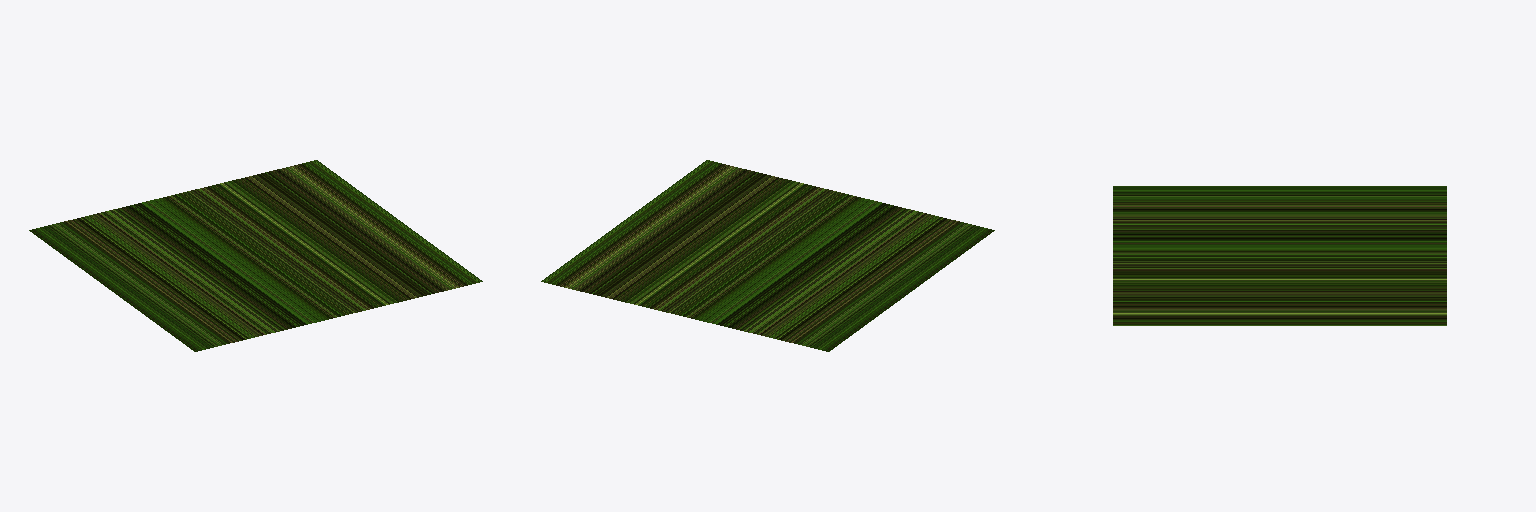
3 views of the same model, side by side, from view 1: azimuth 30°, elevation 25°; view 2: azimuth 150°, elevation 25°; view 3: azimuth 270°, elevation 25° (orthographic).
Parts seen in each view (by area): view 1: mesh01; view 2: mesh01; view 3: mesh01.
Boxes of the visible parts, <box> form: mesh01: <box>29,160,482,351</box>; mesh01: <box>541,160,994,351</box>; mesh01: <box>1113,186,1446,325</box>.
Size of the model in its own units: 60.46 by 0 by 60.46.
1 materials, 1 textured.